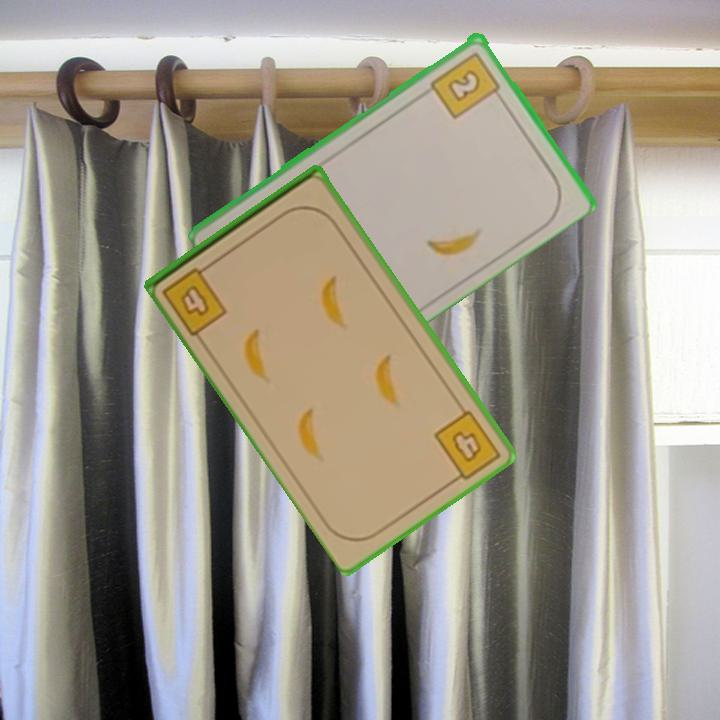2b: (427, 48, 506, 121)
4b: (430, 406, 503, 487), (158, 258, 231, 338)
